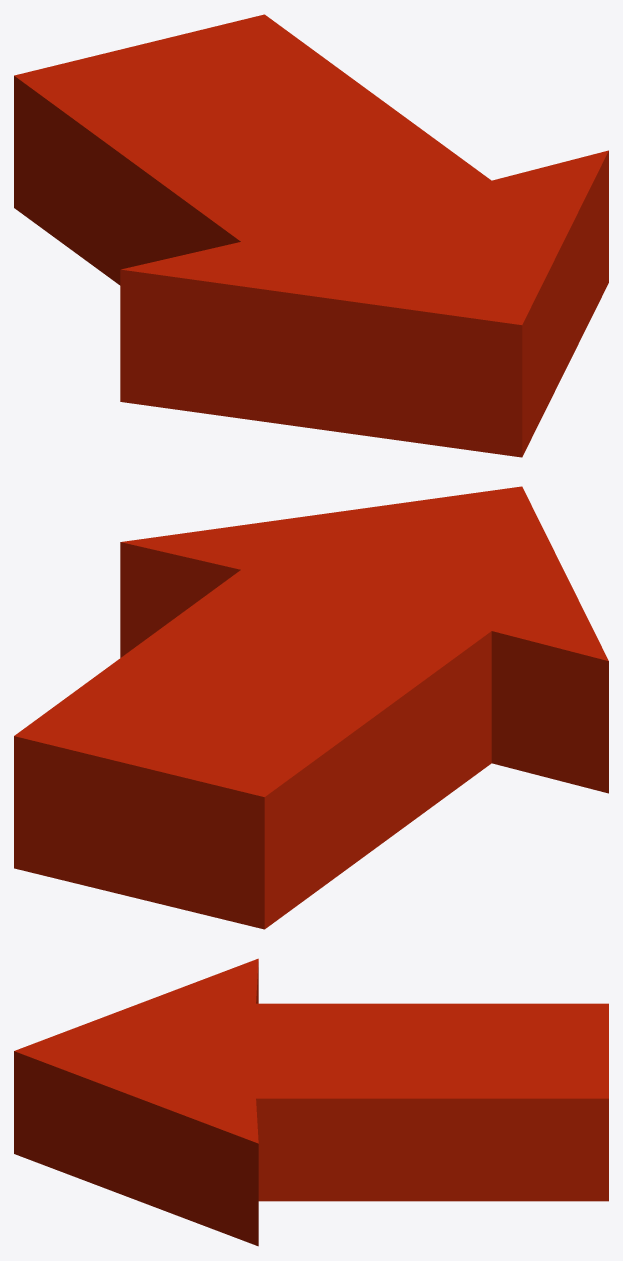
The model's file is arrow.obj.
The picture shows the model from 3 angles, top to bottom: view 1: azimuth 30°, elevation 25°; view 2: azimuth 150°, elevation 25°; view 3: azimuth 270°, elevation 25°; orthographic projection. The views are drawn at different scales.
Parts seen in each view (by area): view 1: 立方体.001; view 2: 立方体.001; view 3: 立方体.001.
Boxes of the visible parts, x1,y1,x2,y2 form: 立方体.001: (14, 14, 608, 457); 立方体.001: (14, 486, 608, 929); 立方体.001: (14, 958, 608, 1246).
Size of the model in its own units: 2 by 0.5177 by 2.71.
1 material, 1 textured.
